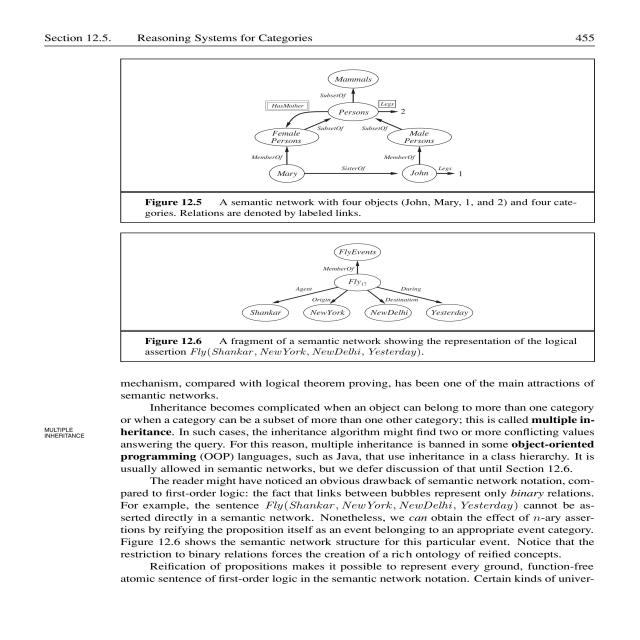diagram: (81, 56, 640, 370)
